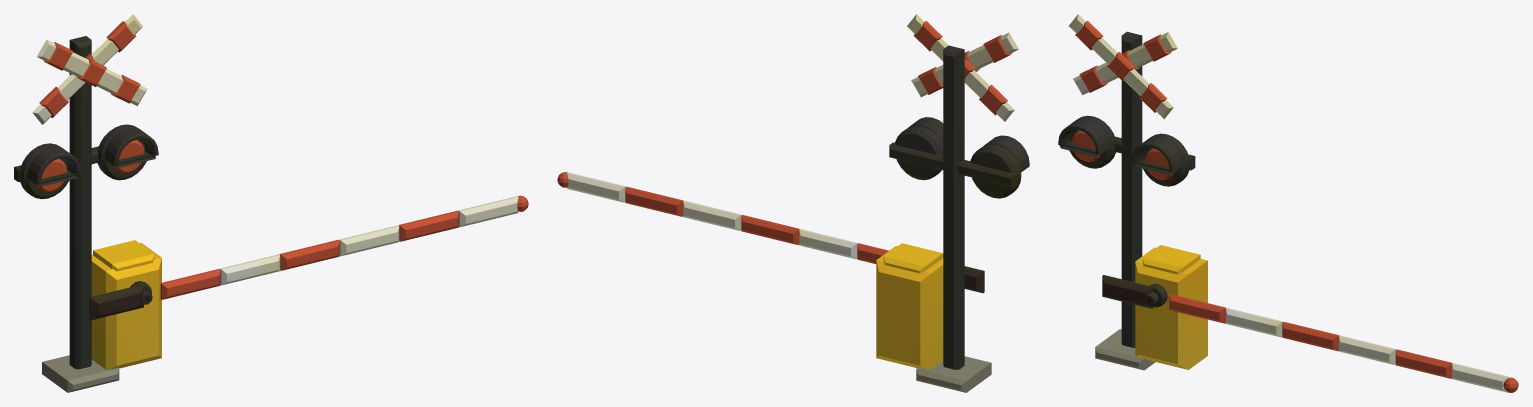
Rendered from Prop_LevelCrossing.glb.
The picture shows the model from 3 angles, left to right: view 1: azimuth 30°, elevation 25°; view 2: azimuth 150°, elevation 25°; view 3: azimuth 330°, elevation 25°; orthographic projection. The views are drawn at different scales.
Parts seen in each view (by area): view 1: Prop_LevelCrossing, Boom; view 2: Prop_LevelCrossing, Boom; view 3: Prop_LevelCrossing, Boom.
Boxes of the visible parts, left/top/right/bottom form: Prop_LevelCrossing: left=14, top=14, right=161, bottom=392; Boom: left=89, top=195, right=528, bottom=320; Prop_LevelCrossing: left=876, top=14, right=1029, bottom=392; Boom: left=557, top=172, right=984, bottom=293; Prop_LevelCrossing: left=1058, top=14, right=1207, bottom=370; Boom: left=1102, top=275, right=1518, bottom=392.
Bounding box in the file's own units: 4.19 × 2.91 × 0.58.
